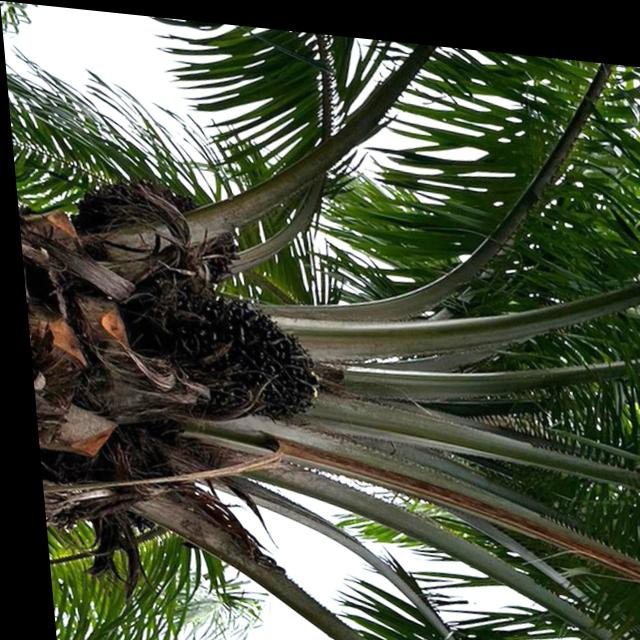unripe: (71, 176, 238, 303), (178, 287, 320, 425)
